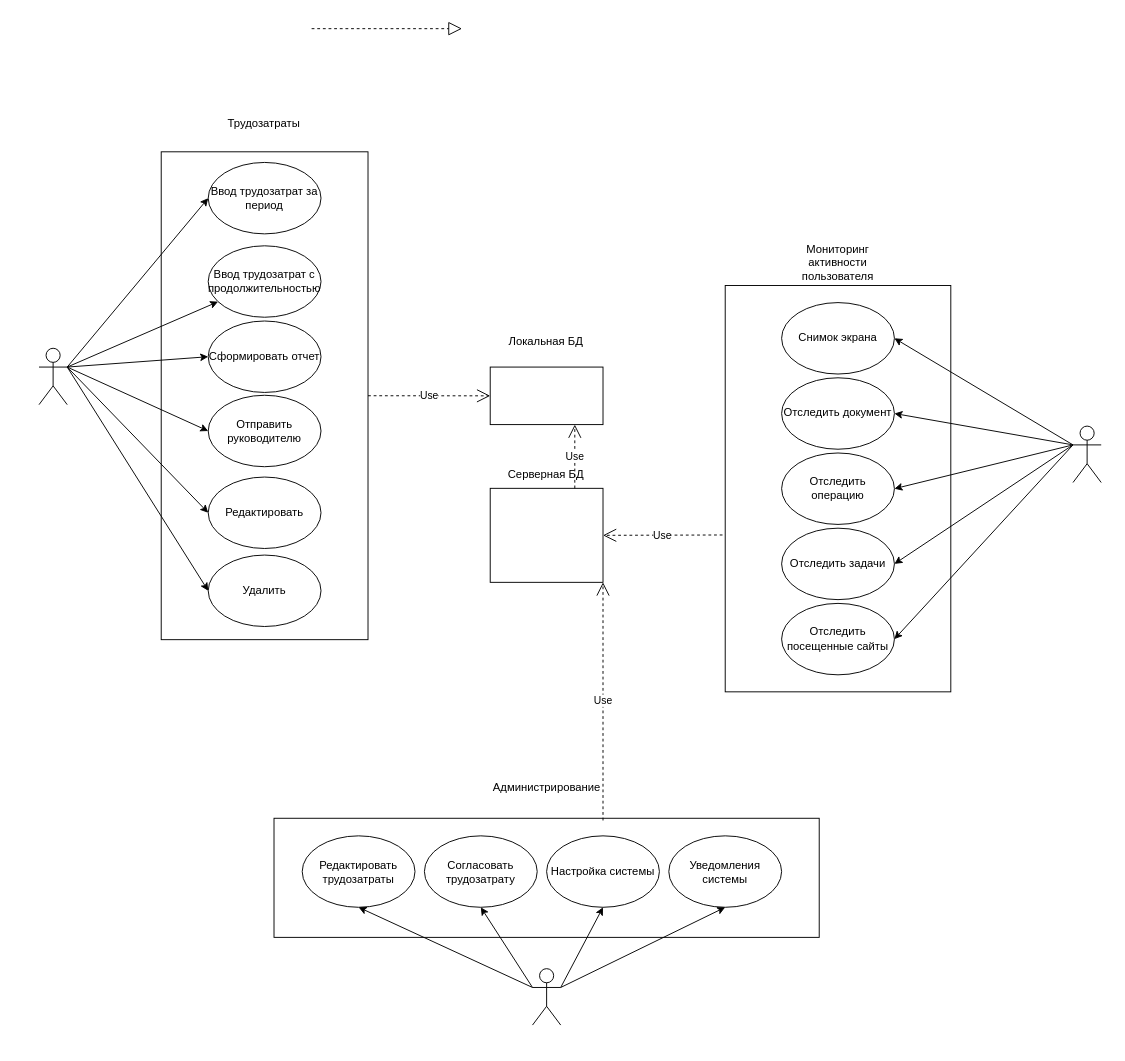
Image size: 1125x1061. Some labels were removed from this diagram. The shapes that lost their labels are listed below. From the top down, each one's box as (x1, y1, x2, y2) in pixels, then its label:
(38, 347, 67, 405): Пользователь
(1072, 425, 1101, 483): Система
(532, 968, 561, 1025): Руководитель
